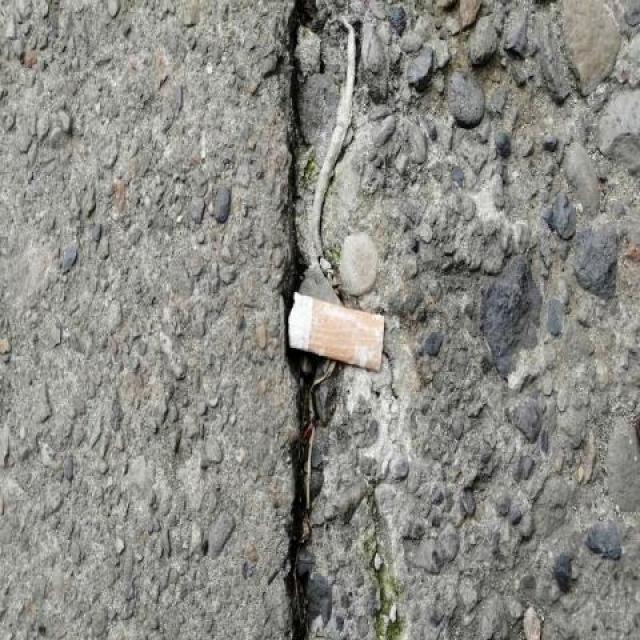non-organic waste: (283, 286, 386, 374)
